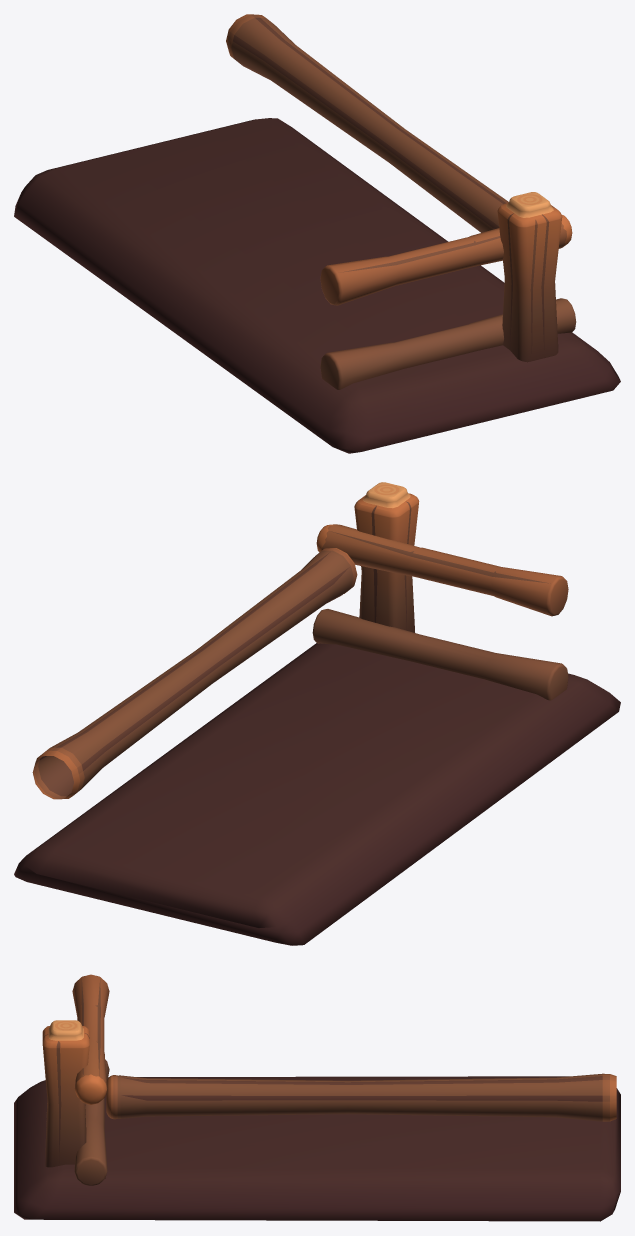
Rendered from CowGrid.fbx.
The picture shows the model from 3 angles, top to bottom: view 1: azimuth 30°, elevation 25°; view 2: azimuth 150°, elevation 25°; view 3: azimuth 270°, elevation 25°; orthographic projection. The views are drawn at different scales.
Visible parts, largest first — view 1: Cylinder.070, Cylinder.073, Cylinder.078, Cylinder.077; view 2: Cylinder.070, Cylinder.078, Cylinder.073, Cylinder.077; view 3: Cylinder.070, Cylinder.073, Cylinder.077, Cylinder.078.
Boxes of the visible parts, <box> form: Cylinder.070: <box>14,118,620,453</box>; Cylinder.073: <box>226,14,508,232</box>; Cylinder.078: <box>320,215,576,389</box>; Cylinder.077: <box>497,192,562,362</box>; Cylinder.070: <box>14,643,620,945</box>; Cylinder.078: <box>312,524,568,700</box>; Cylinder.073: <box>32,548,357,799</box>; Cylinder.077: <box>354,482,419,632</box>; Cylinder.070: <box>14,1076,620,1221</box>; Cylinder.073: <box>106,1073,616,1121</box>; Cylinder.077: <box>42,1020,89,1167</box>; Cylinder.078: <box>72,974,109,1185</box>.
Size of the model in its own units: 1.12 by 0.6874 by 2.26.
